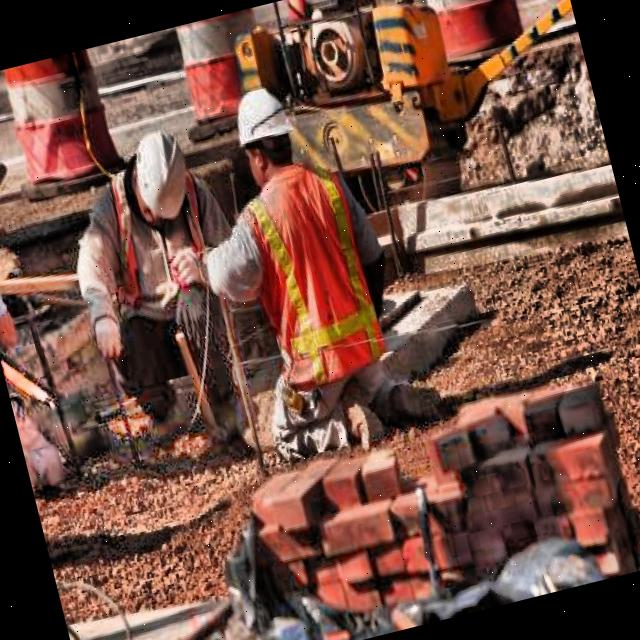helmet: (224, 79, 306, 195), (120, 126, 201, 228)
